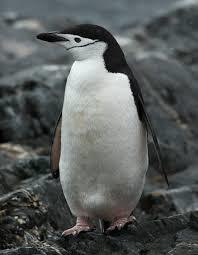chinstrap: (27, 13, 175, 229)
